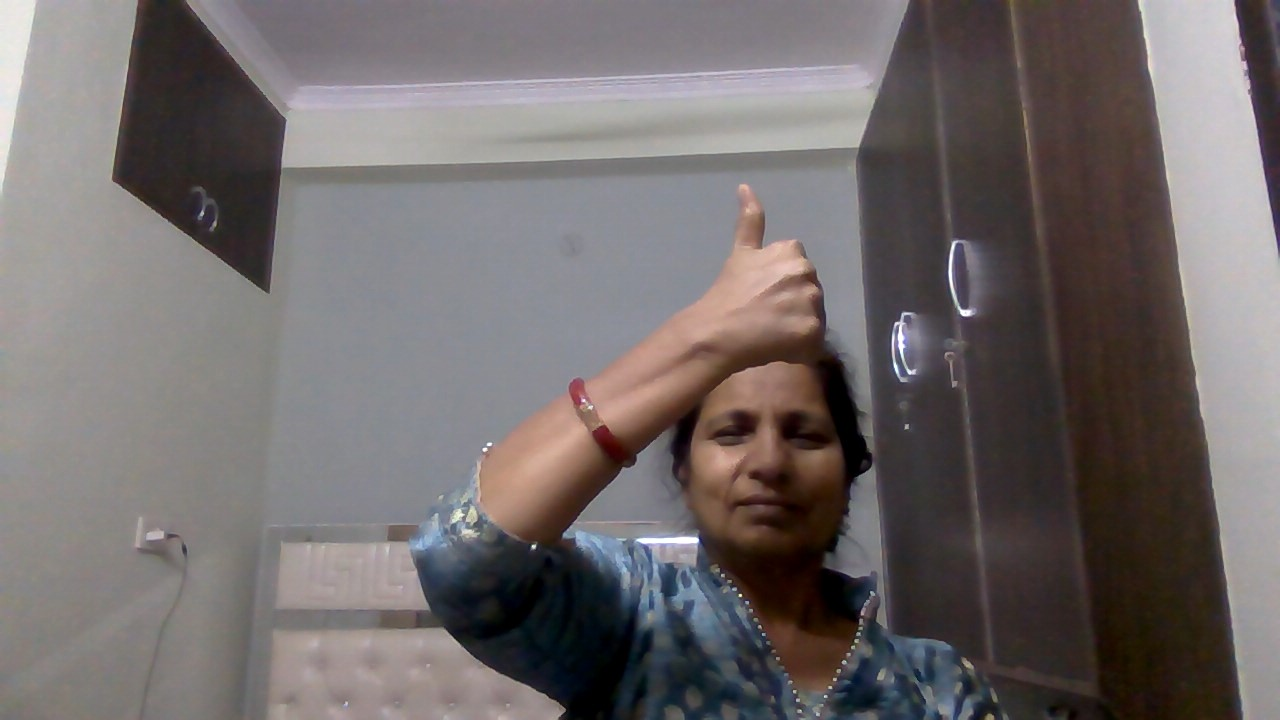Save: (666, 172, 848, 390)
